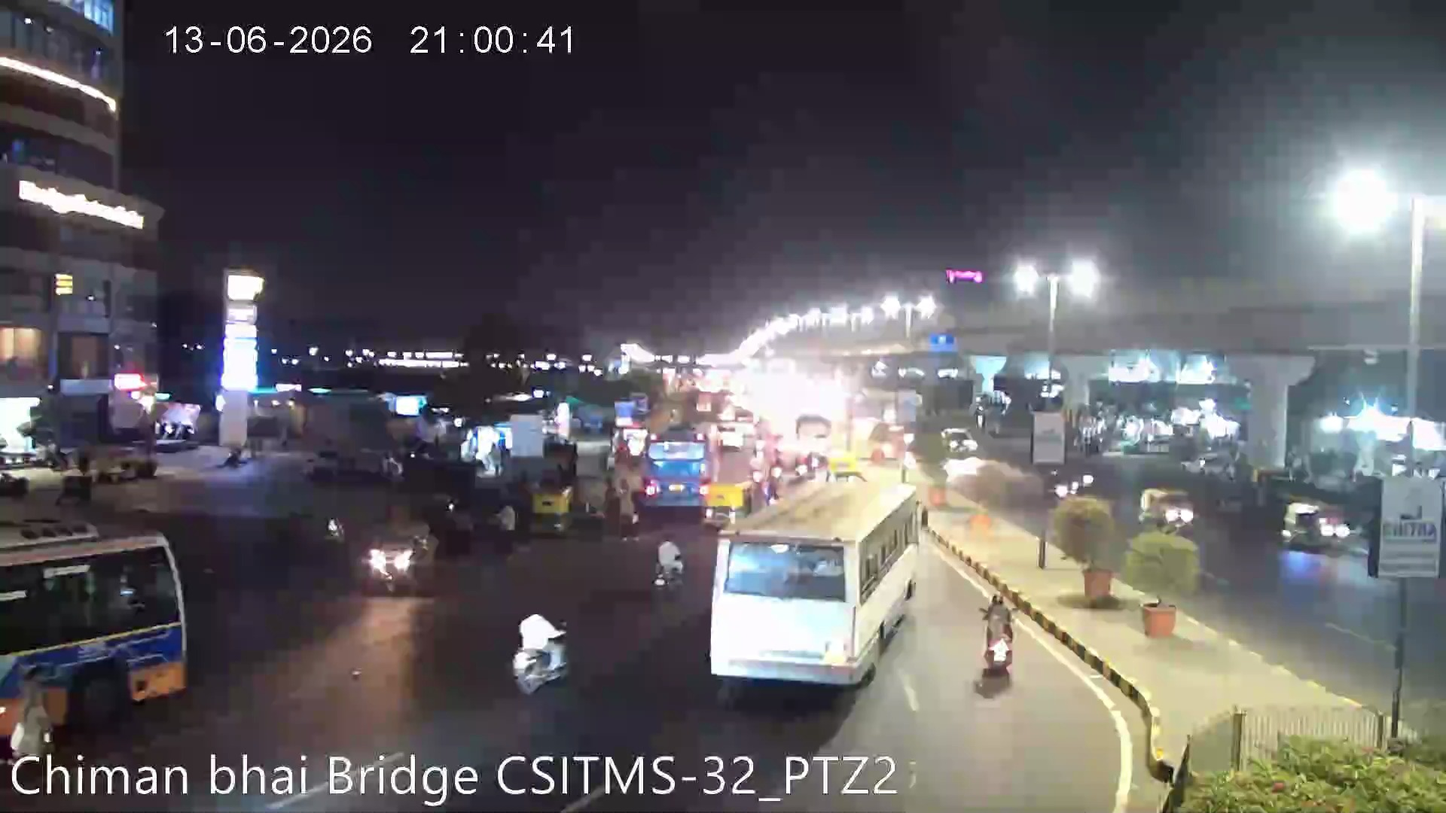auto_rickshaw: (355, 523, 439, 601), (1136, 483, 1200, 537), (529, 486, 575, 537), (702, 478, 750, 519)
bus: (0, 519, 201, 742), (704, 487, 929, 684)
car: (1278, 496, 1351, 555)
two_wheeler: (500, 603, 580, 696), (973, 584, 1022, 683), (646, 533, 687, 595)
